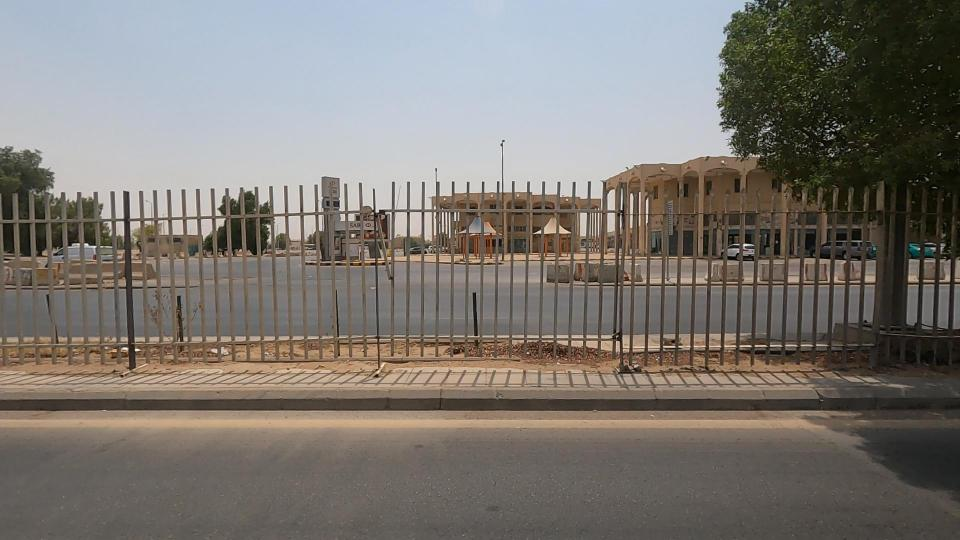GARBAGE: (76, 321, 164, 375), (185, 327, 262, 377)
